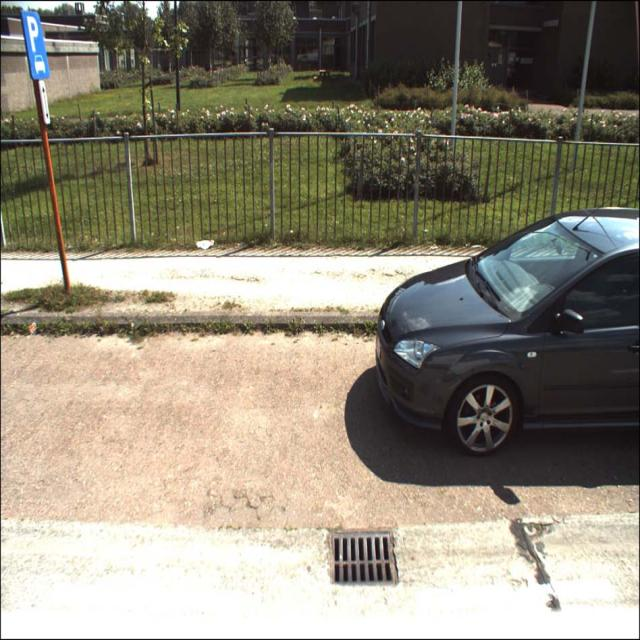park: (23, 10, 44, 54)
